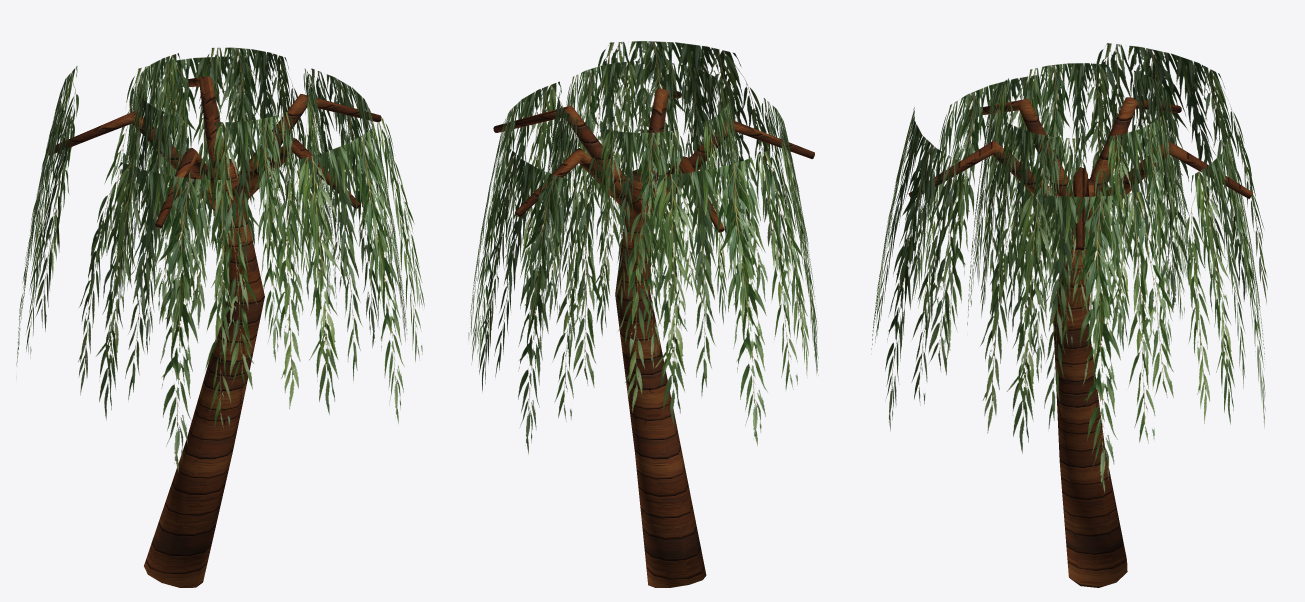
File: tree_willow_weeping.glb
3 views of the same model, side by side, from view 1: azimuth 30°, elevation 25°; view 2: azimuth 150°, elevation 25°; view 3: azimuth 270°, elevation 25° (orthographic). The views are drawn at different scales.
Visible parts, largest first — view 1: willow_canopy, willow_trunk; view 2: willow_canopy, willow_trunk; view 3: willow_canopy, willow_trunk.
Boxes of the visible parts, <box> form: willow_canopy: <box>16,47,424,471</box>; willow_trunk: <box>46,76,381,587</box>; willow_canopy: <box>468,41,818,454</box>; willow_trunk: <box>493,88,814,587</box>; willow_canopy: <box>871,43,1267,492</box>; willow_trunk: <box>908,97,1253,587</box>.
Size of the model in its own units: 4.2 by 5.96 by 4.36.
Materials: 2 (2 with a texture image).
